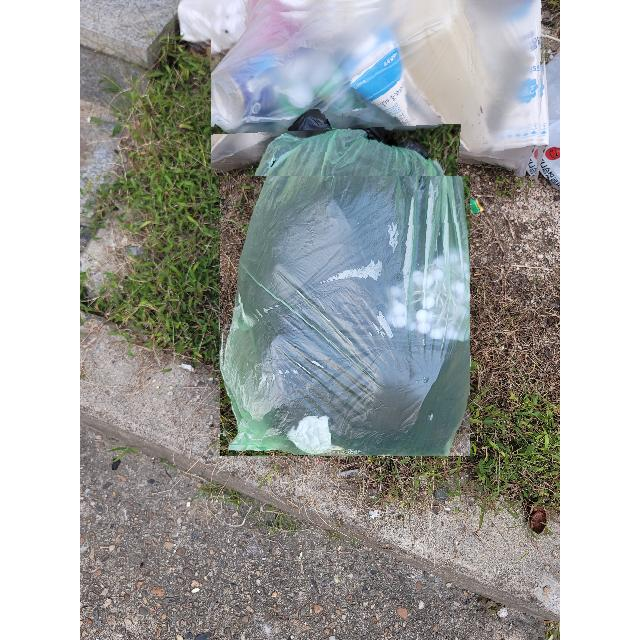general_trashbag: (223, 125, 470, 456)
other_trashbag: (211, 0, 545, 176)
